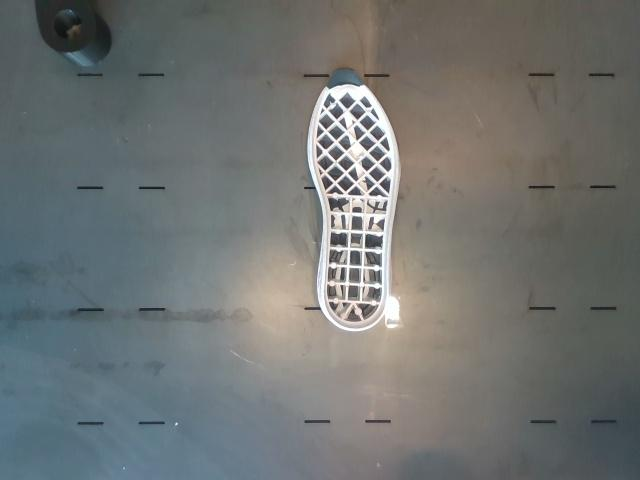shoes: (312, 69, 396, 327)
